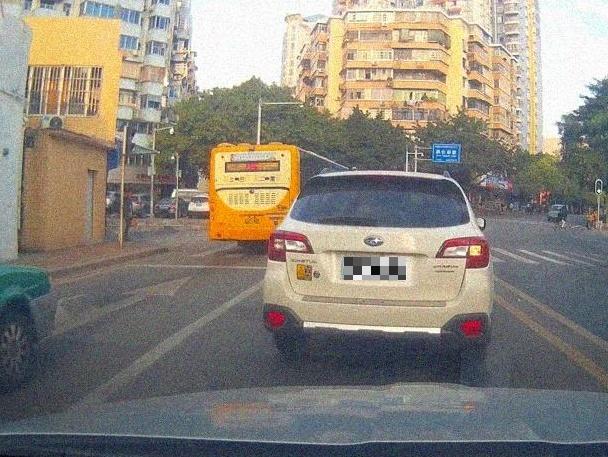R_light: (437, 235, 490, 269)
T_light: (268, 229, 314, 261), (361, 175, 398, 182)
day-right: (265, 171, 493, 361)
plate_1: (344, 257, 406, 280)
